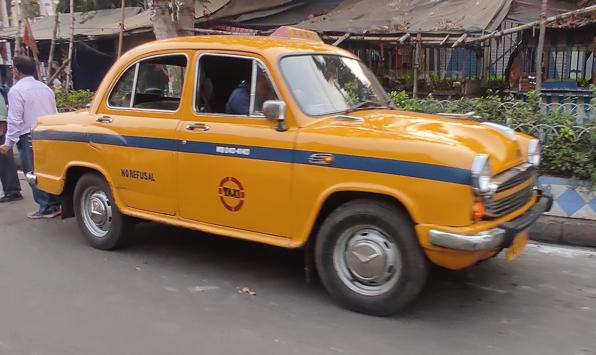Car: (23, 31, 563, 321)
